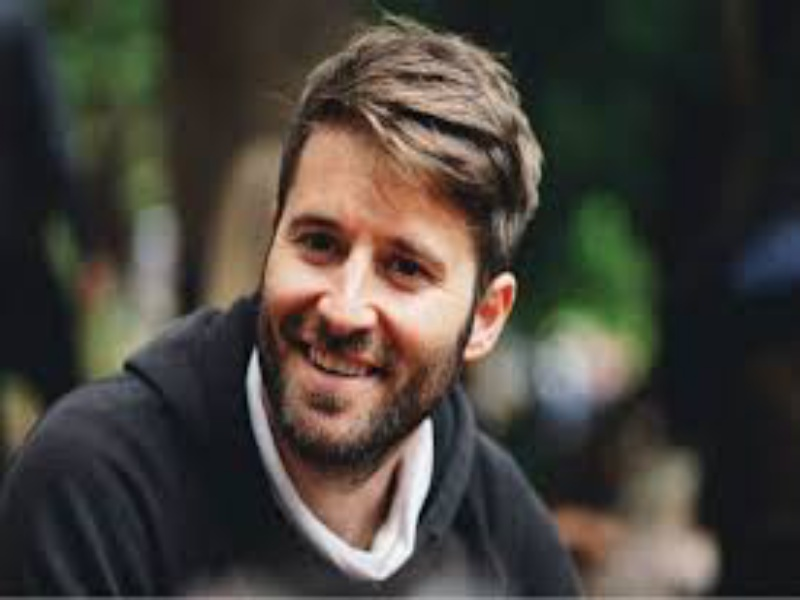TsisyArotava: (241, 89, 476, 477)
